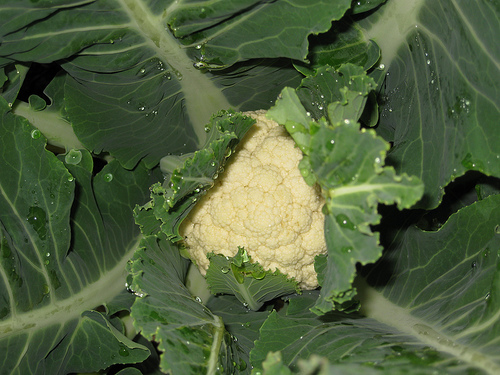cauliflower: (177, 108, 332, 296)
